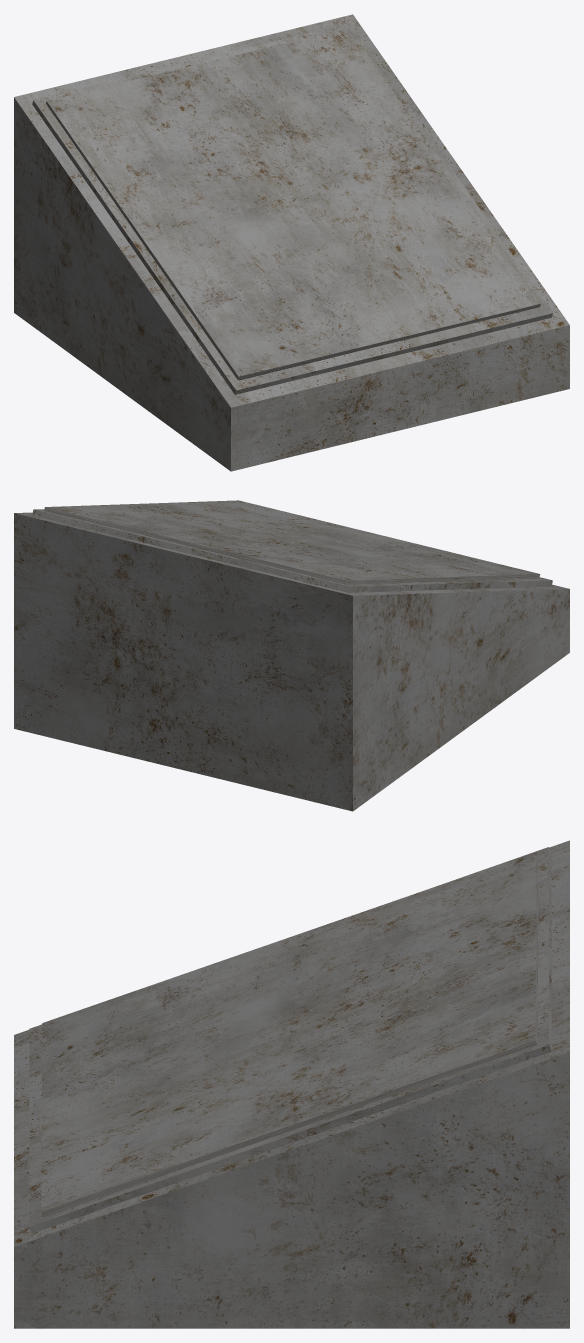
The model's file is BasementEntrance.fbx.
3 views of the same model, one above another, from view 1: azimuth 30°, elevation 25°; view 2: azimuth 150°, elevation 25°; view 3: azimuth 270°, elevation 25° (orthographic). The views are drawn at different scales.
Parts seen in each view (by area): view 1: pCube2, pCube1; view 2: pCube1, pCube2; view 3: pCube1, pCube2.
Boxes of the visible parts, <box> form: pCube2: <box>46,28,540,379</box>; pCube1: <box>14,14,569,471</box>; pCube1: <box>14,509,569,811</box>; pCube2: <box>44,500,540,584</box>; pCube1: <box>14,840,569,1328</box>; pCube2: <box>41,851,538,1217</box>.
Bounding box in the file's own units: 1.36 × 0.8279 × 1.5.
